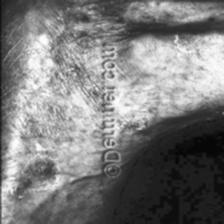Toxin: (94, 0, 130, 25), (55, 61, 88, 88)
